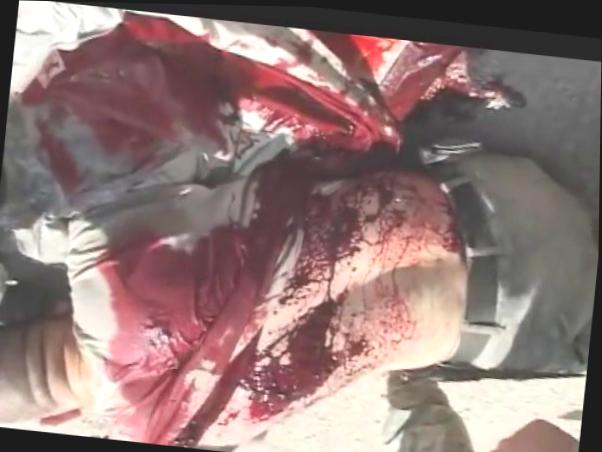Fire: (97, 165, 458, 447), (18, 11, 522, 210)
